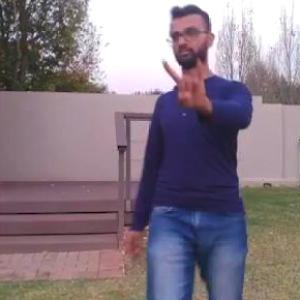takeoff-hand: (159, 49, 213, 110)
